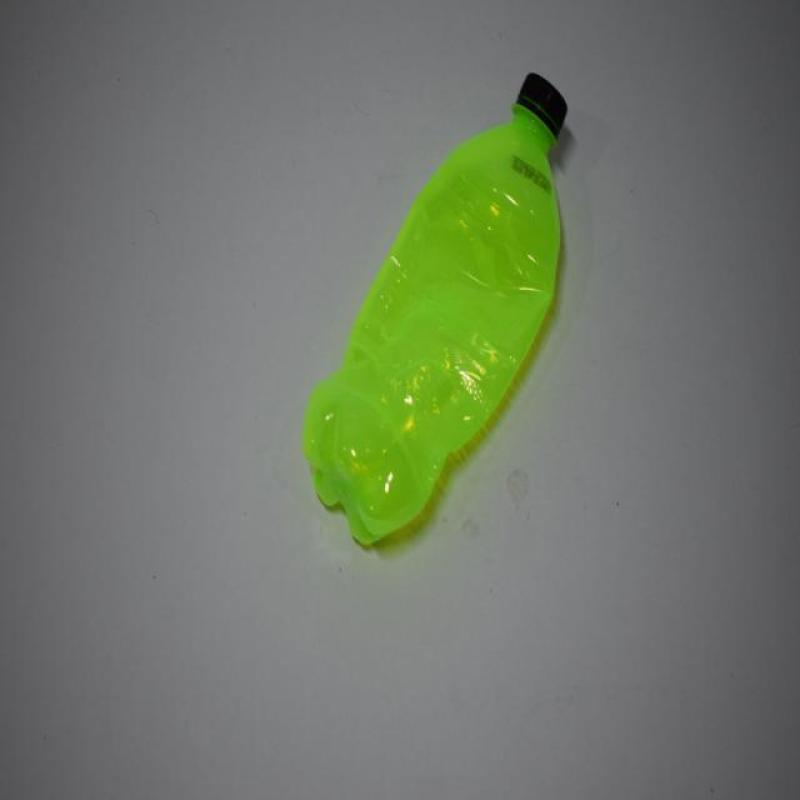botella: (300, 70, 569, 550)
